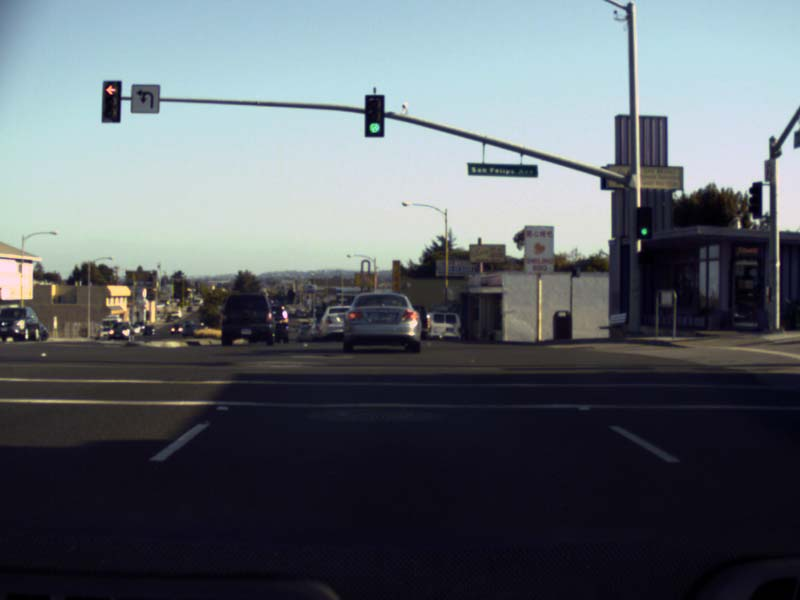Green: (364, 93, 385, 138), (636, 205, 652, 240)
Red: (101, 80, 121, 123)
